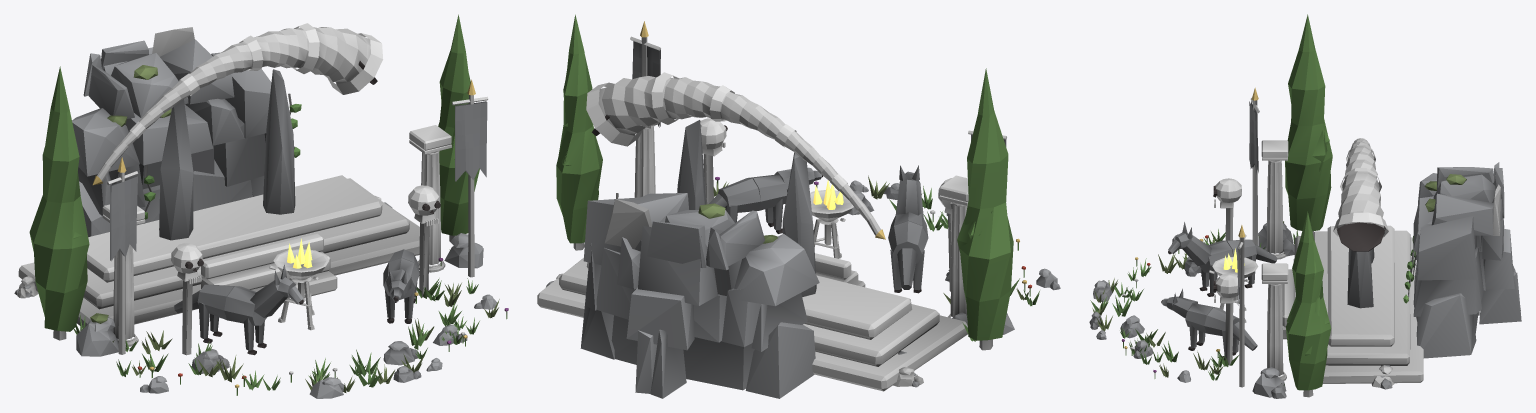
The model's file is horn-of-lycaon-l2.glb.
3 renders of one model, left to right at view 1: azimuth 30°, elevation 25°; view 2: azimuth 150°, elevation 25°; view 3: azimuth 270°, elevation 25°, orthographic. The views are drawn at different scales.
Visible parts, largest first — view 1: horn-of-lycaon-l2; view 2: horn-of-lycaon-l2; view 3: horn-of-lycaon-l2.
Part boxes in pixels (<box>): horn-of-lycaon-l2: <box>14,14,508,398</box>; horn-of-lycaon-l2: <box>537,14,1060,398</box>; horn-of-lycaon-l2: <box>1089,14,1521,398</box>.
Bounding box in the file's own units: 1.71 × 1.01 × 1.76.
